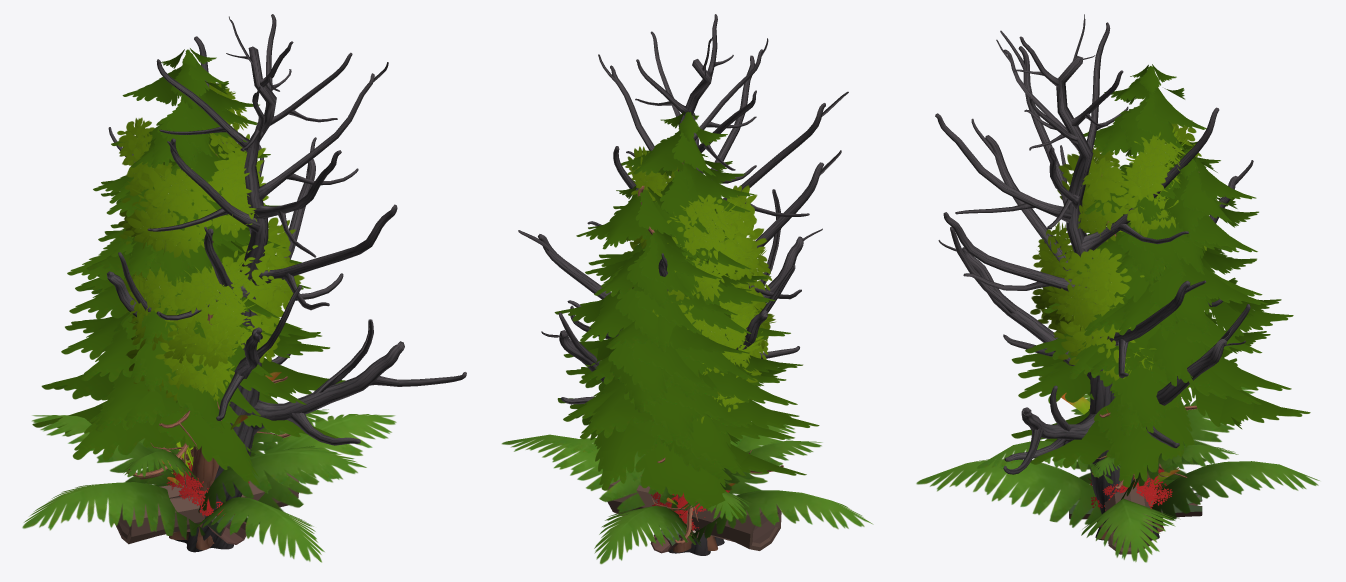
The model's file is forest.glb.
3 renders of one model, left to right at view 1: azimuth 30°, elevation 25°; view 2: azimuth 150°, elevation 25°; view 3: azimuth 270°, elevation 25°, orthographic. The views are drawn at different scales.
Visible parts, largest first — view 1: Pine_4, DeadTree_2, CommonTree_3, Fern_1, Pine_5, CommonTree_5, WoodLog, Bush_Common, WoodLog_Moss; view 2: Pine_5, Pine_4, Fern_1, DeadTree_2, CommonTree_3, WoodLog, CommonTree_5, Bush_Common; view 3: Pine_5, DeadTree_2, Pine_4, Fern_1, CommonTree_3, CommonTree_5, Bush_Common, WoodLog.
Boxes of the visible parts, x1,y1,x2,y2 form: Pine_4: (41,48,321,543); DeadTree_2: (107,14,466,552); CommonTree_3: (117,81,304,550); Fern_1: (22,409,396,562); Pine_5: (32,146,345,543); CommonTree_5: (119,234,283,541); WoodLog: (115,473,299,544); Bush_Common: (166,461,249,516); WoodLog_Moss: (207,506,246,544); Pine_5: (554,186,806,518); Pine_4: (563,111,819,543); Fern_1: (501,424,873,564); DeadTree_2: (518,14,848,555); CommonTree_3: (623,146,775,552); WoodLog: (607,479,781,550); CommonTree_5: (652,283,768,550); Bush_Common: (651,489,731,532); Pine_5: (1011,147,1310,488); DeadTree_2: (935,14,1253,540); Pine_4: (1011,64,1270,488); Fern_1: (916,386,1319,562); CommonTree_3: (1030,120,1201,539); CommonTree_5: (1038,246,1206,380); Bush_Common: (1088,467,1172,510); WoodLog: (1104,487,1152,554).
Size of the model in its own units: 9.05 by 11.49 by 8.49.
14 materials, 7 textured.
